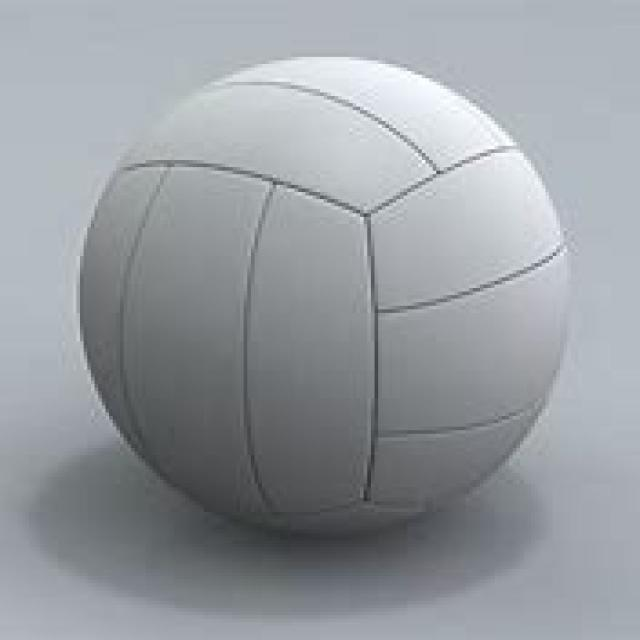Volleyball: (77, 53, 568, 541)
